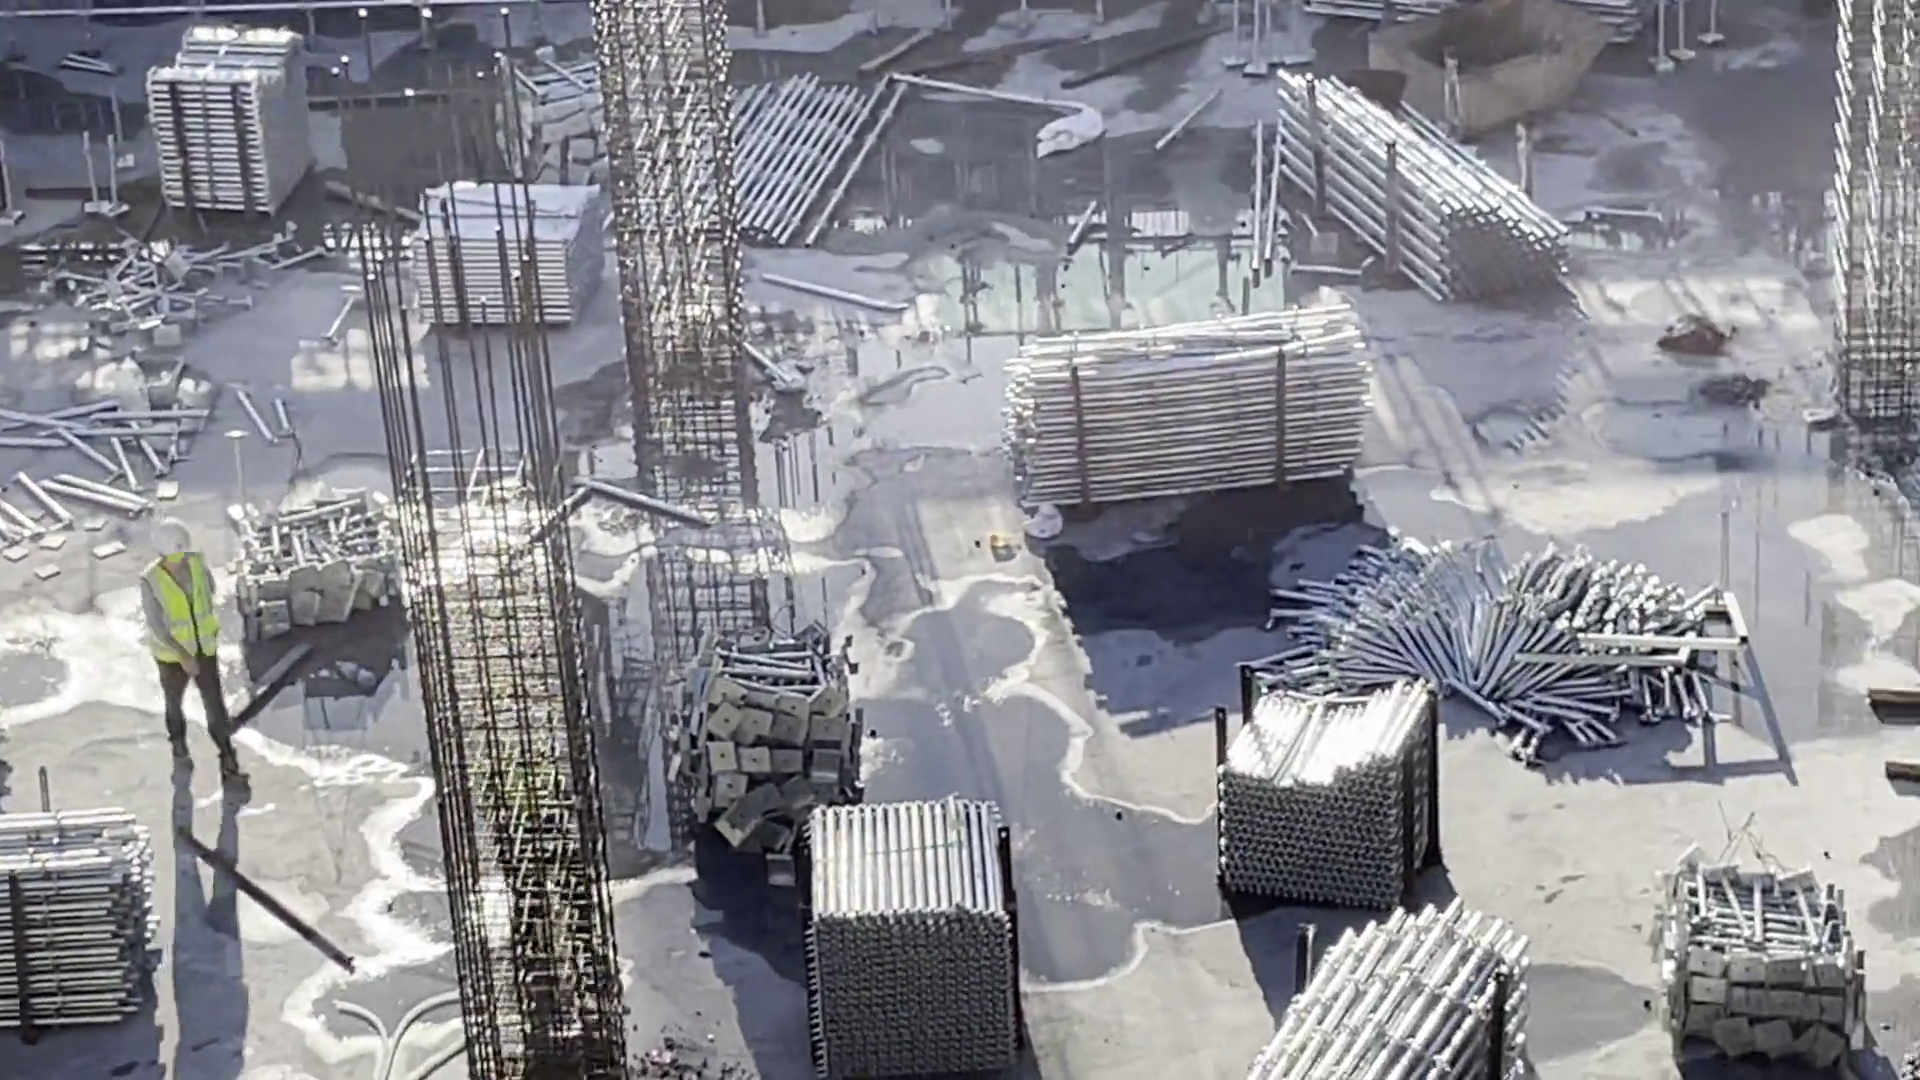helmet: (153, 525, 190, 558)
hopper: (1371, 3, 1595, 136)
person: (132, 515, 249, 785)
scaffold: (1305, 564, 1706, 742), (1009, 303, 1417, 468), (801, 821, 1029, 1068), (1283, 913, 1563, 1080), (1300, 84, 1518, 289), (1223, 701, 1432, 892), (634, 96, 855, 238), (140, 32, 288, 228), (1, 812, 143, 1004), (416, 184, 572, 303)
vest: (140, 561, 227, 676)
